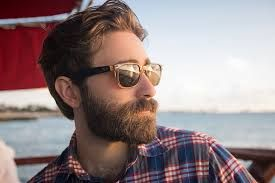no-mask: (49, 21, 165, 146)
